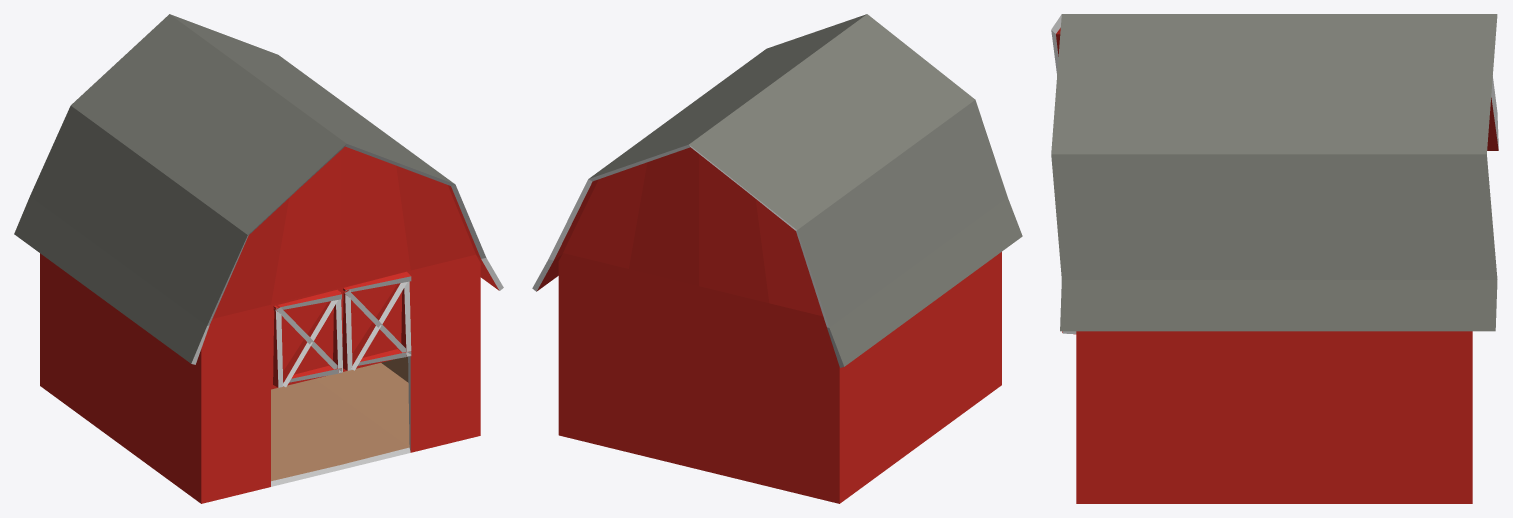
The model's file is Barn.fbx.
The picture shows the model from 3 angles, left to right: view 1: azimuth 30°, elevation 25°; view 2: azimuth 150°, elevation 25°; view 3: azimuth 270°, elevation 25°; orthographic projection. The views are drawn at different scales.
Parts seen in each view (by area): view 1: Barn; view 2: Barn; view 3: Barn.
Boxes of the visible parts, <box> form: Barn: <box>14,14,503,503</box>; Barn: <box>532,14,1022,503</box>; Barn: <box>1051,14,1498,503</box>.
Size of the model in its own units: 811 by 822 by 821.
